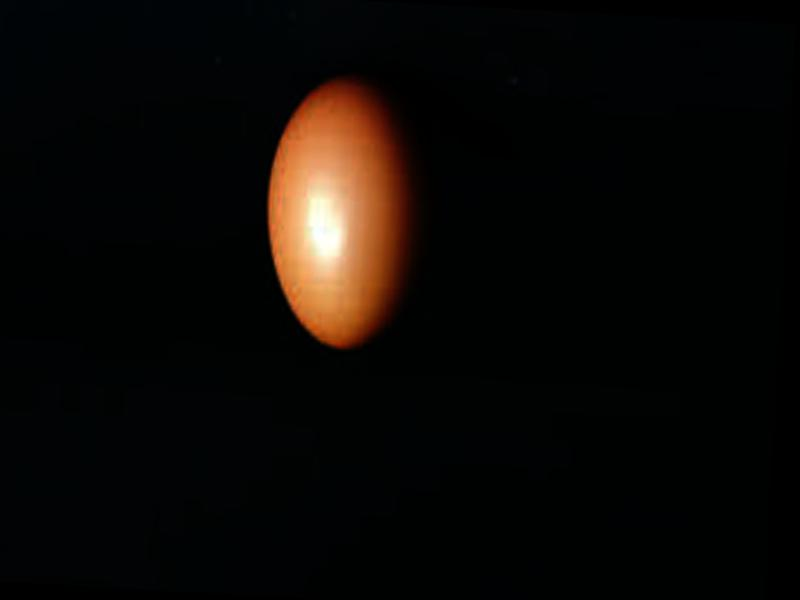Eggs: (261, 66, 437, 353)
